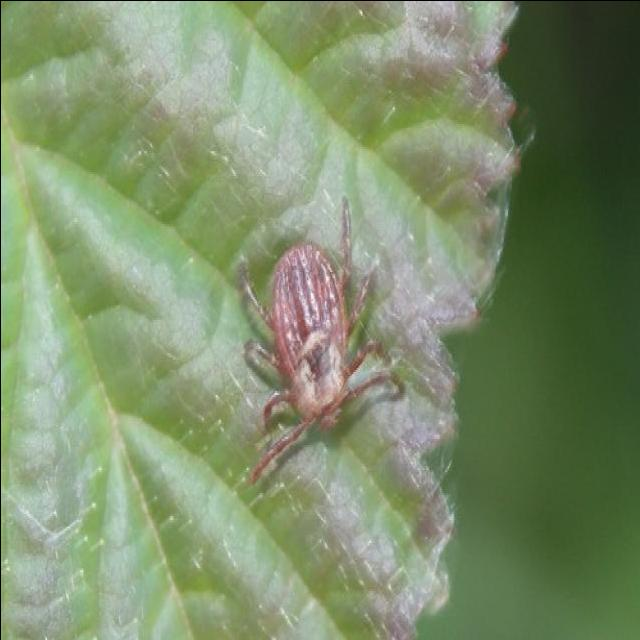Dermacentor Reticulatus-F: (241, 196, 401, 484)
